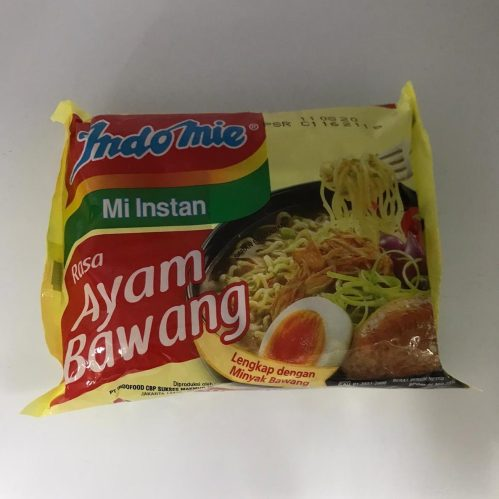Indomie Ayam Bawang (69g): (28, 103, 438, 412)
